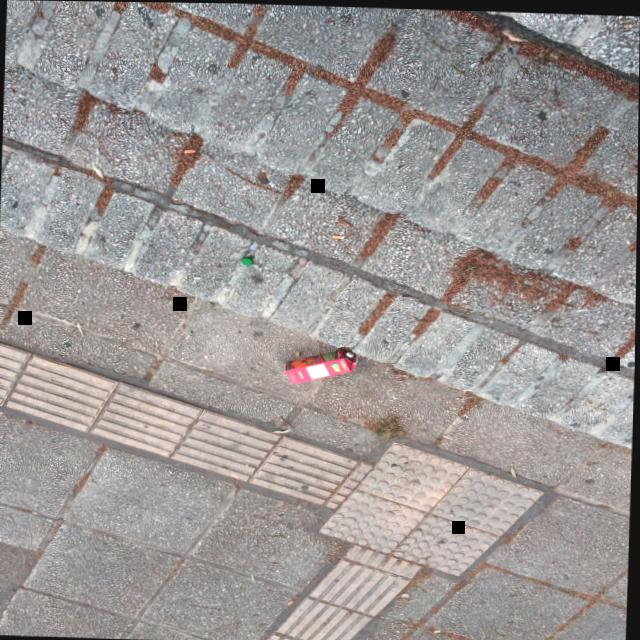Cigarette: (331, 232, 345, 237), (184, 147, 195, 151), (288, 598, 295, 603)
Drink carton: (285, 348, 357, 382)
Plastic bottle cap: (240, 255, 252, 263)
